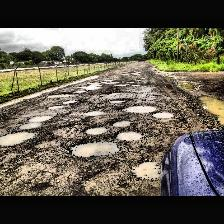pothole: (70, 140, 119, 156), (132, 160, 162, 180), (0, 131, 34, 145), (116, 130, 141, 140), (120, 106, 156, 112), (28, 114, 52, 122), (18, 122, 40, 130), (112, 119, 132, 127), (86, 126, 106, 134), (84, 110, 104, 116), (152, 112, 172, 118), (48, 92, 72, 96), (78, 85, 100, 89), (108, 99, 128, 103), (48, 106, 62, 108), (62, 100, 76, 102), (73, 90, 87, 92), (109, 92, 121, 94)
